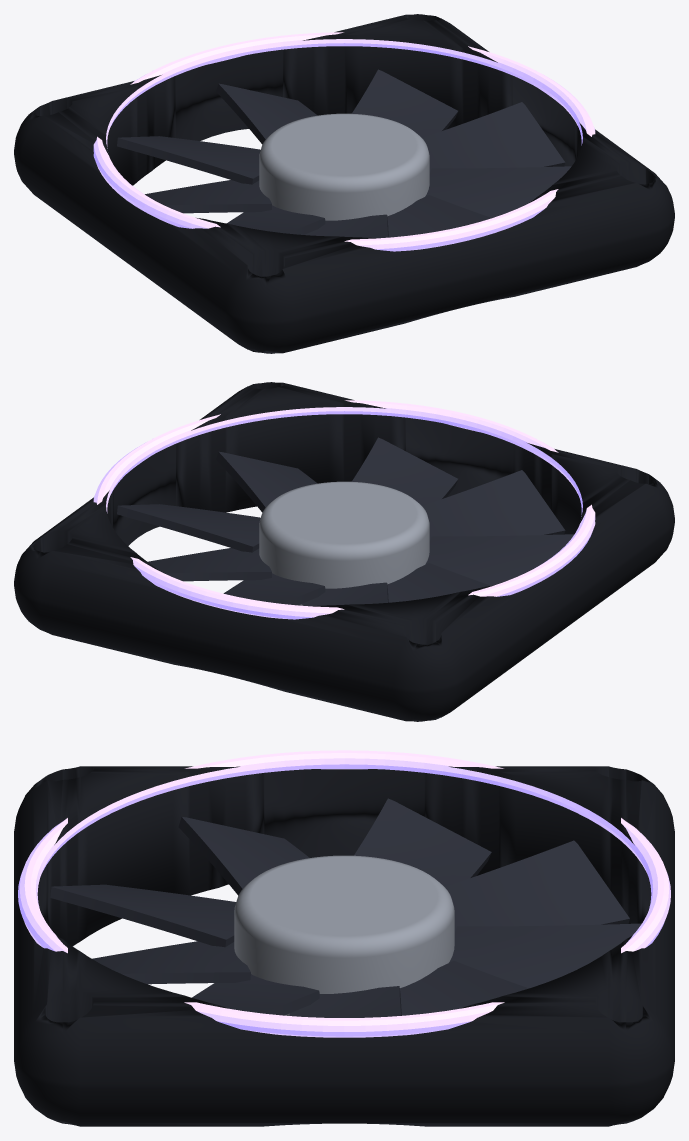
File: Fan120.glb
3 renders of one model, top to bottom at view 1: azimuth 30°, elevation 25°; view 2: azimuth 150°, elevation 25°; view 3: azimuth 270°, elevation 25°, orthographic. The views are drawn at different scales.
Parts seen in each view (by area): view 1: Frame__SmoothPlastic__16181E, Blades__SmoothPlastic__2A2D38__Spin, Hub__Metal__9AA0AC, Ring__Neon__8B7CFF; view 2: Frame__SmoothPlastic__16181E, Blades__SmoothPlastic__2A2D38__Spin, Hub__Metal__9AA0AC, Ring__Neon__8B7CFF; view 3: Frame__SmoothPlastic__16181E, Blades__SmoothPlastic__2A2D38__Spin, Hub__Metal__9AA0AC, Ring__Neon__8B7CFF.
Part boxes in pixels (x1,y1,x2,y2): Frame__SmoothPlastic__16181E: (14, 14, 674, 353); Blades__SmoothPlastic__2A2D38__Spin: (117, 69, 571, 238); Hub__Metal__9AA0AC: (259, 113, 429, 220); Ring__Neon__8B7CFF: (93, 32, 595, 251); Frame__SmoothPlastic__16181E: (14, 382, 674, 721); Blades__SmoothPlastic__2A2D38__Spin: (117, 437, 574, 606); Hub__Metal__9AA0AC: (259, 481, 429, 605); Ring__Neon__8B7CFF: (93, 400, 595, 619); Frame__SmoothPlastic__16181E: (14, 766, 674, 1126); Blades__SmoothPlastic__2A2D38__Spin: (50, 798, 641, 1017); Hub__Metal__9AA0AC: (234, 855, 454, 1015); Ring__Neon__8B7CFF: (18, 750, 670, 1037).
Bounding box in the file's own units: 12 × 2.5 × 12.
